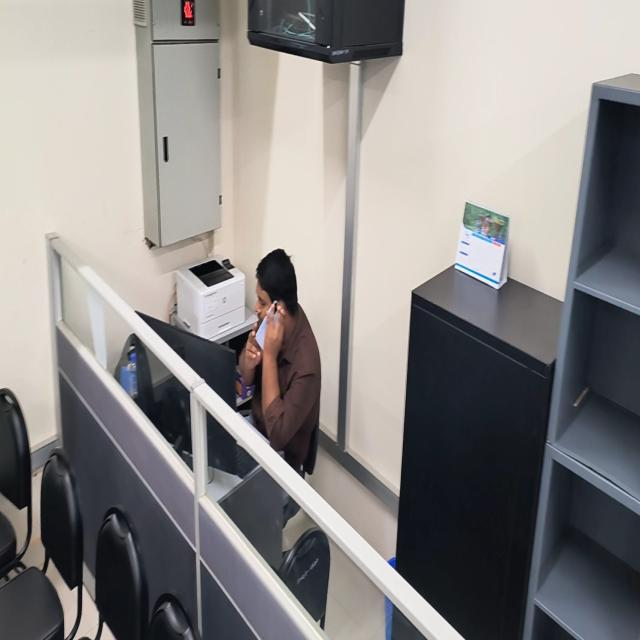Chair: (0, 450, 83, 639), (96, 508, 148, 639), (0, 388, 32, 580), (277, 529, 330, 629), (149, 595, 196, 639)
Keyboard: (236, 446, 257, 478)
Monitor: (135, 307, 237, 473)
